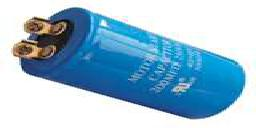Electrolytic Capacitor: (6, 2, 248, 119)
